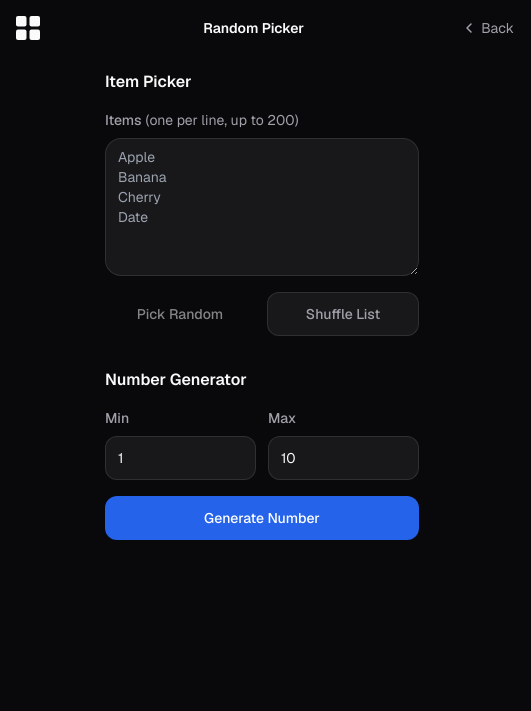
Scenario: RandomPickerTool › result card shows generated number › displays the generated number in a result card after clicking "Generate Number"
Click the button with aria-label "generate a random number" at (262, 518), box [105,496,419,540]
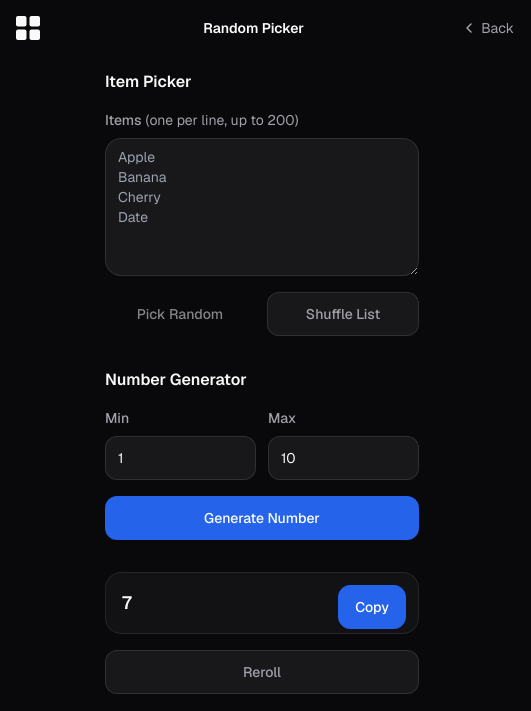
Expected: the text "7" is shown, [122,591,132,614]
